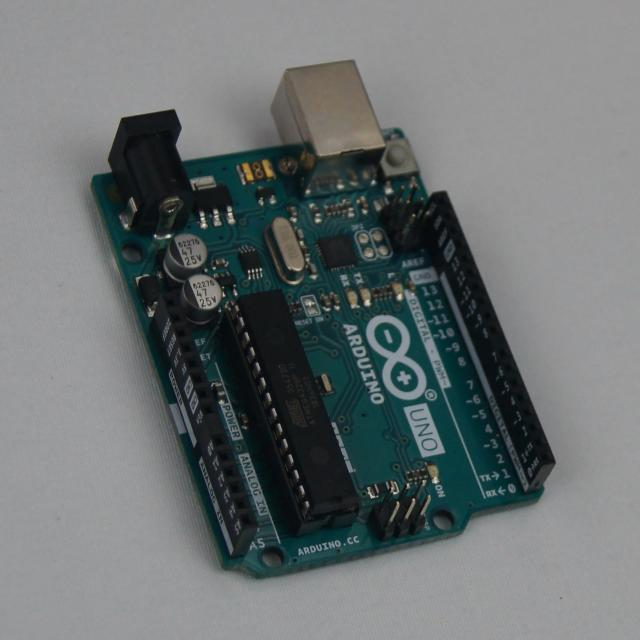Arduino Uno -Green-: (93, 61, 555, 575)
